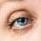eye: (17, 18, 27, 25)
